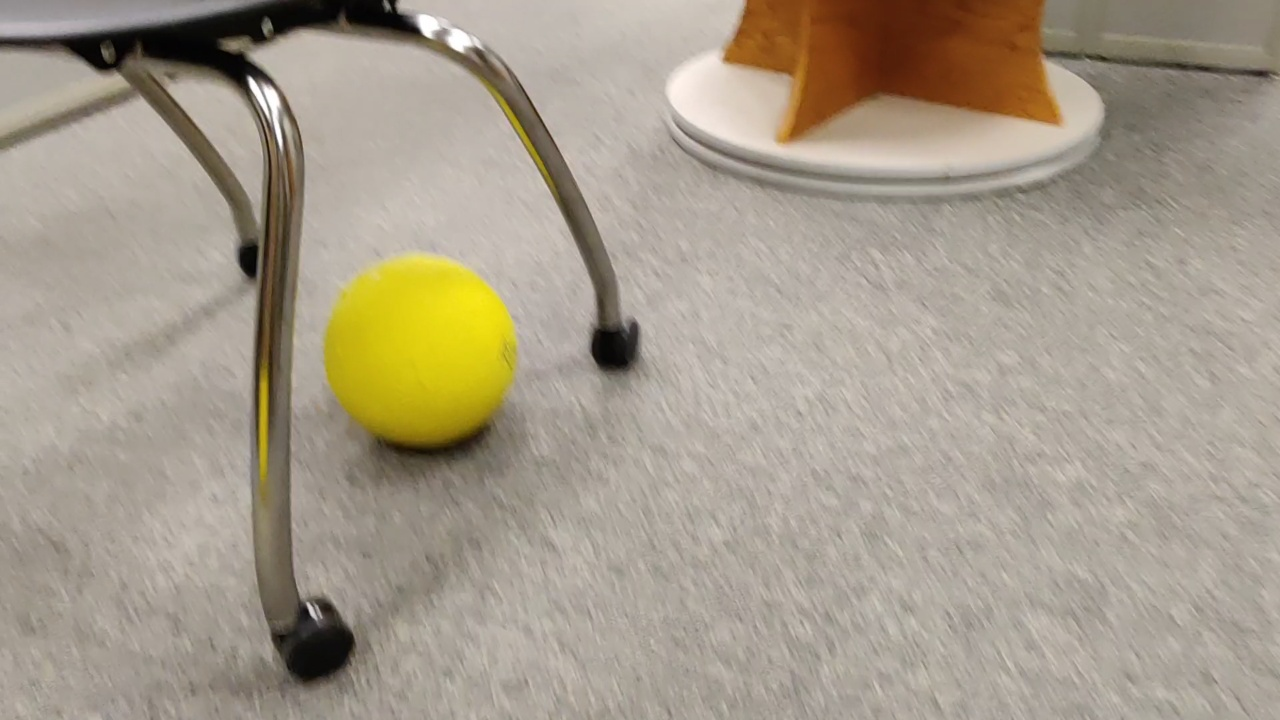Ball: (325, 259, 519, 462)
